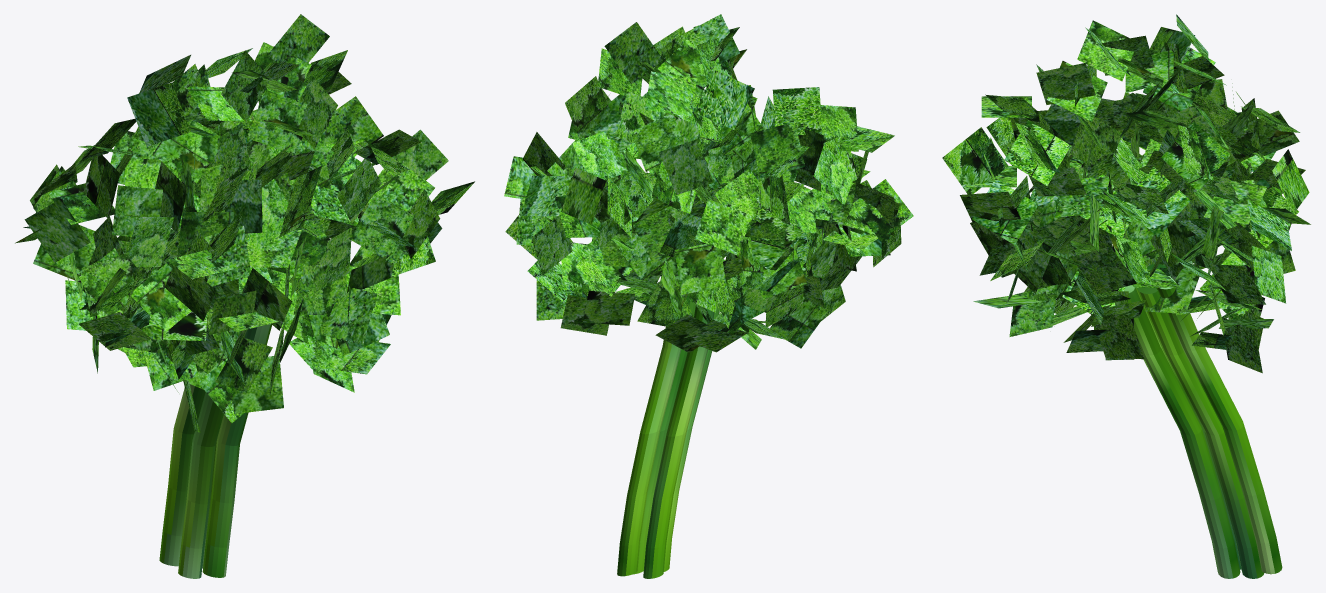
The model's file is parsley.fbx.
3 renders of one model, left to right at view 1: azimuth 30°, elevation 25°; view 2: azimuth 150°, elevation 25°; view 3: azimuth 270°, elevation 25°, orthographic. The views are drawn at different scales.
Visible parts, largest first — view 1: parsley; view 2: parsley; view 3: parsley.
Boxes of the visible parts, x1,y1,x2,y2 form: parsley: [15, 14, 474, 578]; parsley: [504, 14, 913, 578]; parsley: [942, 14, 1310, 578].
Size of the model in its own units: 325 by 465 by 284.
